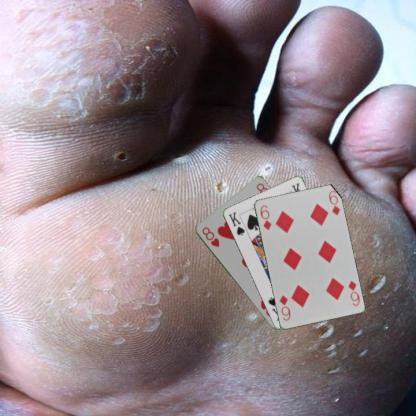6d: (257, 202, 273, 231), (346, 278, 360, 307)
8h: (198, 224, 221, 249)
Ks: (226, 209, 246, 236)
